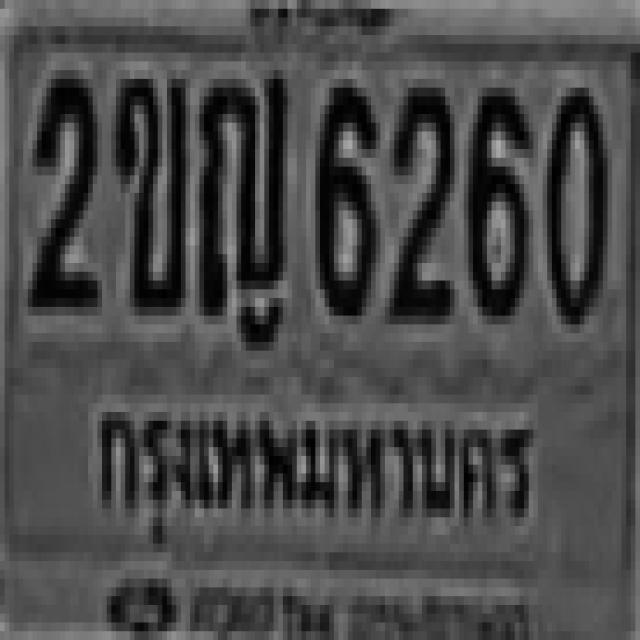0: (543, 79, 603, 316)
11KhorKhai: (111, 70, 181, 307)
2: (28, 57, 93, 302), (385, 75, 450, 311)
22YorYing: (195, 70, 283, 307)
6: (464, 75, 524, 311), (311, 79, 371, 307)
Bangkok: (81, 376, 543, 561)
